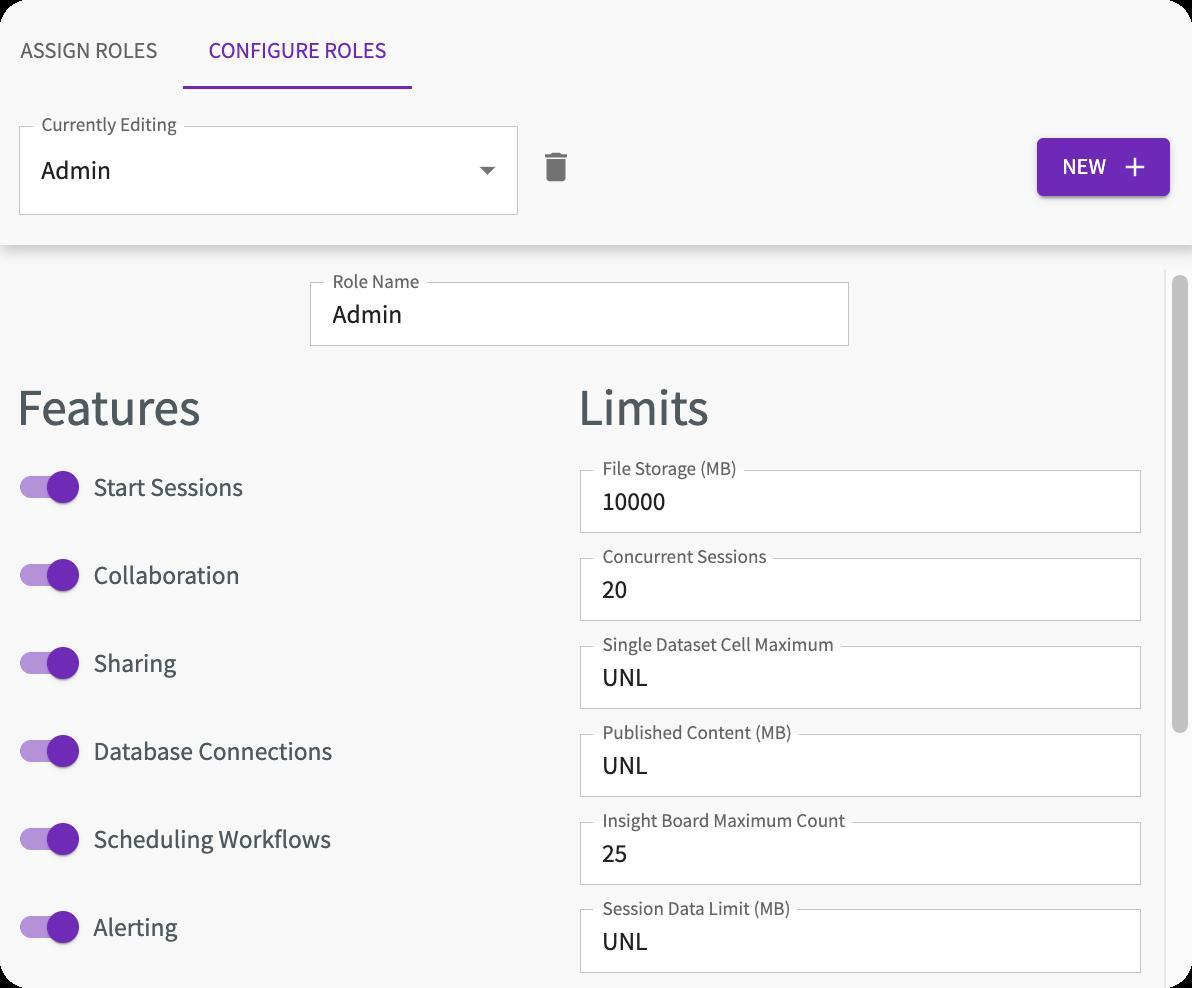button: (186, 8, 411, 88), (1039, 135, 1175, 198)
dropdown: (24, 125, 520, 213)
icon: (530, 145, 584, 193)
input: (581, 645, 1138, 715), (581, 558, 1141, 626), (581, 821, 1137, 889), (581, 468, 1138, 535), (580, 731, 1146, 796), (308, 281, 849, 345), (586, 910, 1143, 972)
label: (15, 381, 225, 450), (90, 735, 341, 771), (90, 825, 341, 861), (563, 380, 716, 436), (599, 806, 848, 838), (90, 556, 246, 597), (600, 716, 795, 746), (14, 34, 163, 70), (91, 473, 251, 504), (31, 108, 184, 139), (598, 458, 747, 488), (599, 547, 771, 570), (600, 900, 793, 920), (599, 636, 828, 651), (91, 913, 181, 949), (91, 650, 183, 685), (331, 271, 424, 294)
switch: (6, 638, 86, 691), (15, 818, 88, 867), (13, 553, 85, 599), (13, 906, 88, 950), (15, 730, 86, 775), (13, 466, 85, 509)
